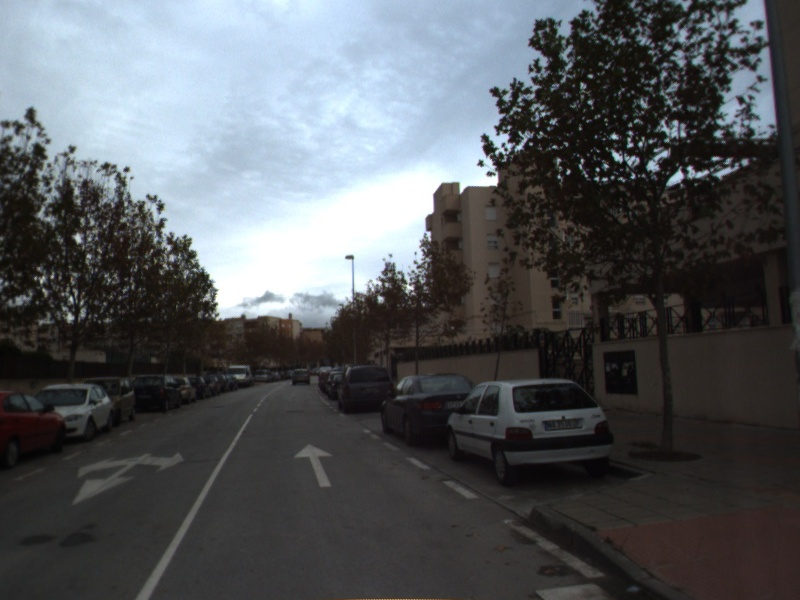STRAIGHT: (292, 442, 335, 488)
